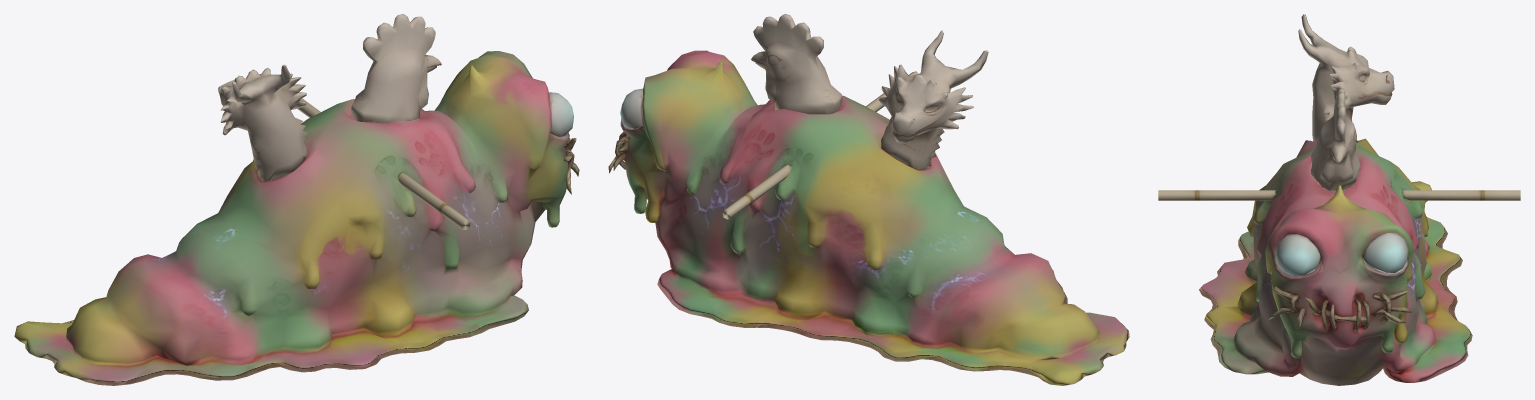
3 renders of one model, left to right at view 1: azimuth 30°, elevation 25°; view 2: azimuth 150°, elevation 25°; view 3: azimuth 270°, elevation 25°, orthographic. The views are drawn at different scales.
Visible parts, largest first — view 1: tripo_node_ff81a7e7-ce72-456d-a2da-7a0b21e8c734; view 2: tripo_node_ff81a7e7-ce72-456d-a2da-7a0b21e8c734; view 3: tripo_node_ff81a7e7-ce72-456d-a2da-7a0b21e8c734.
Part boxes in pixels (x1=…): tripo_node_ff81a7e7-ce72-456d-a2da-7a0b21e8c734: x1=14, y1=14, x2=579, y2=385; tripo_node_ff81a7e7-ce72-456d-a2da-7a0b21e8c734: x1=608, y1=14, x2=1129, y2=385; tripo_node_ff81a7e7-ce72-456d-a2da-7a0b21e8c734: x1=1158, y1=14, x2=1520, y2=385.
Size of the model in its own units: 0.998 by 0.502 by 0.6621.
1 material, 1 textured.
